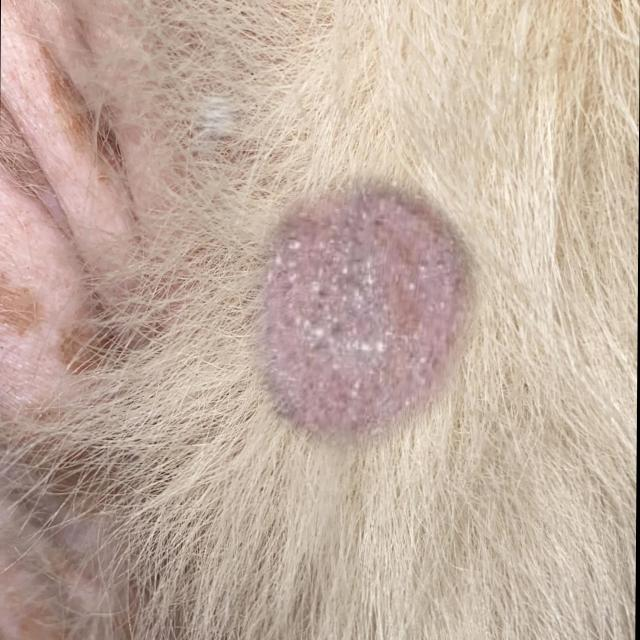ringworm: (225, 148, 513, 492)
